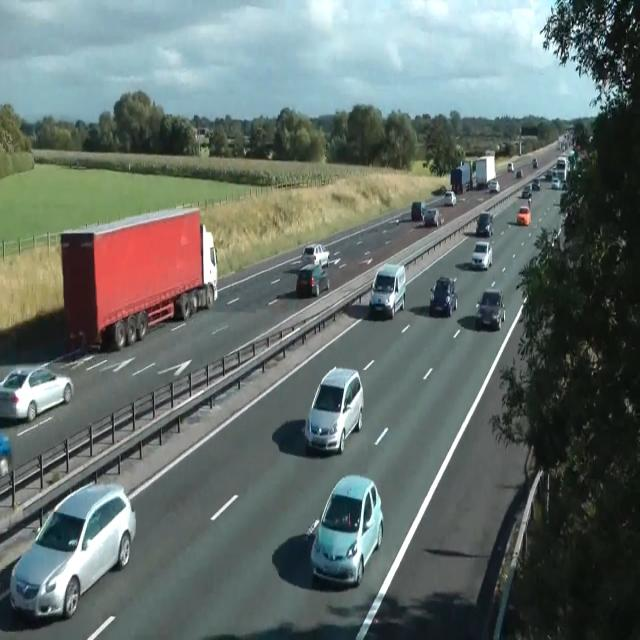bus: (308, 474, 384, 586), (0, 366, 74, 423), (475, 288, 505, 331), (300, 242, 330, 268), (471, 240, 493, 269), (0, 433, 12, 478), (476, 212, 494, 236), (422, 207, 441, 227), (516, 205, 530, 226), (551, 227, 561, 249), (444, 190, 456, 206), (487, 179, 499, 193), (522, 184, 532, 198), (530, 178, 540, 190), (557, 156, 567, 168), (551, 177, 561, 189), (507, 162, 514, 172), (516, 168, 522, 179), (532, 158, 538, 168)
jeep: (9, 480, 136, 622), (304, 366, 364, 454), (368, 262, 406, 318), (295, 262, 329, 297), (429, 274, 457, 316), (411, 200, 426, 220)
minibus: (60, 204, 218, 352), (450, 150, 496, 194), (475, 152, 496, 188), (450, 160, 472, 194)
